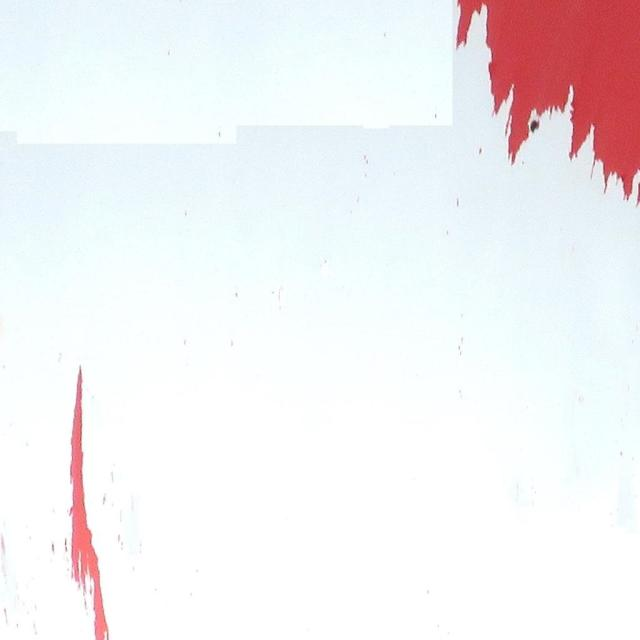surface_peeling: (454, 4, 640, 203), (64, 366, 110, 636)
